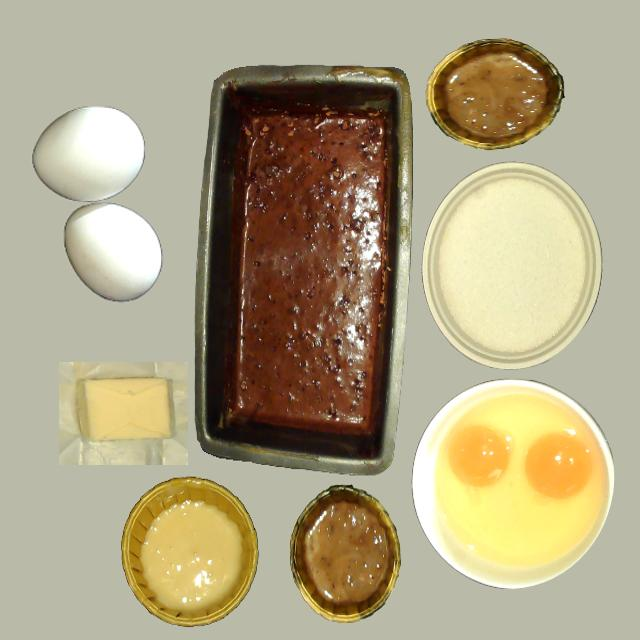Egg: (441, 413, 517, 500), (524, 432, 592, 500)
Sugar: (434, 174, 591, 356)
